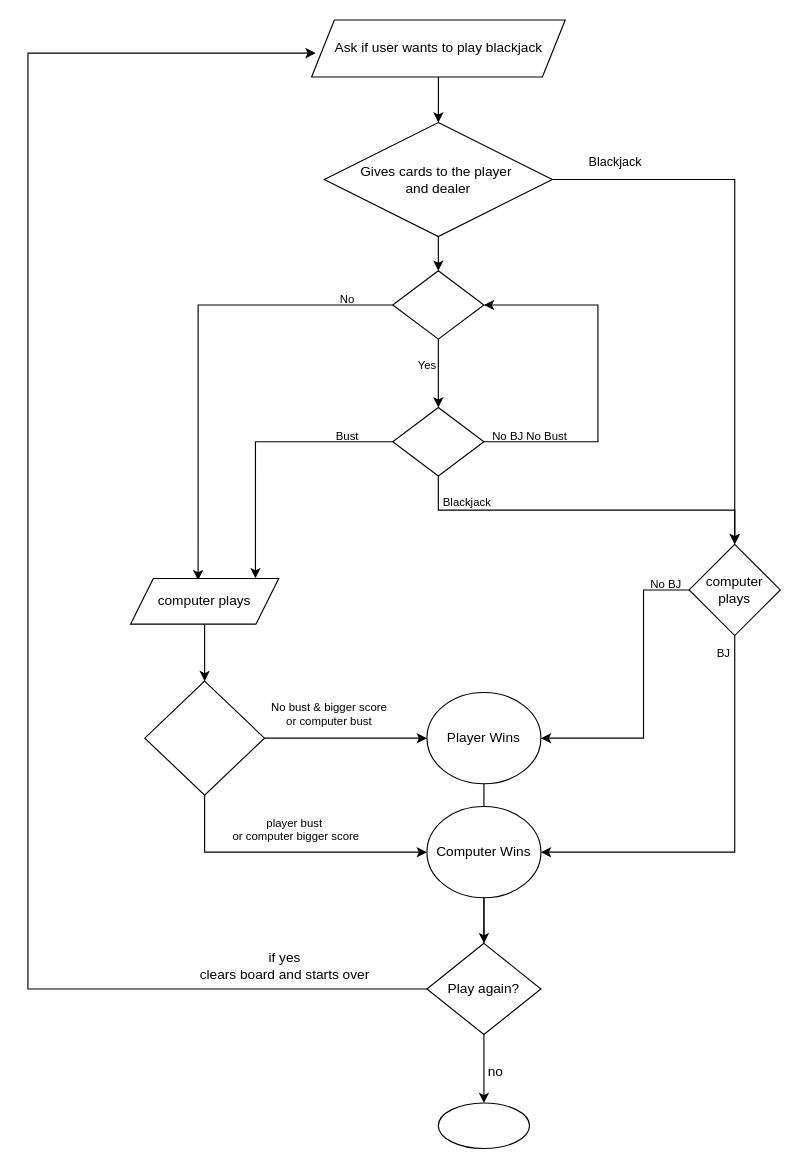
Some shapes in this 800 by 1169 pixel diagram are drawn without their labels. The shapes that lost their labels are listed below. From the top down, each one's centre as x and y in pixels, then its label:
point (438, 304): Want a hit?
point (438, 441): New score
point (204, 737): result
point (483, 1125): exit
